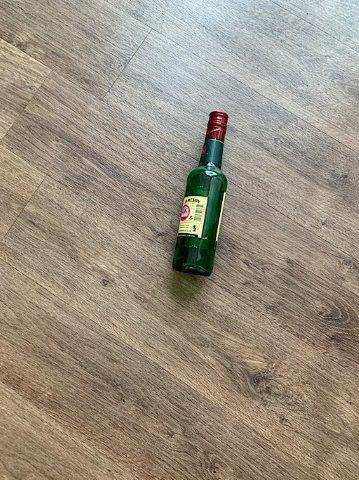botolkaca: (174, 112, 228, 276)
